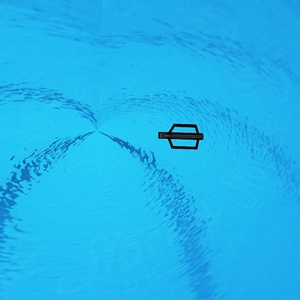submarine: (158, 124, 203, 154)
